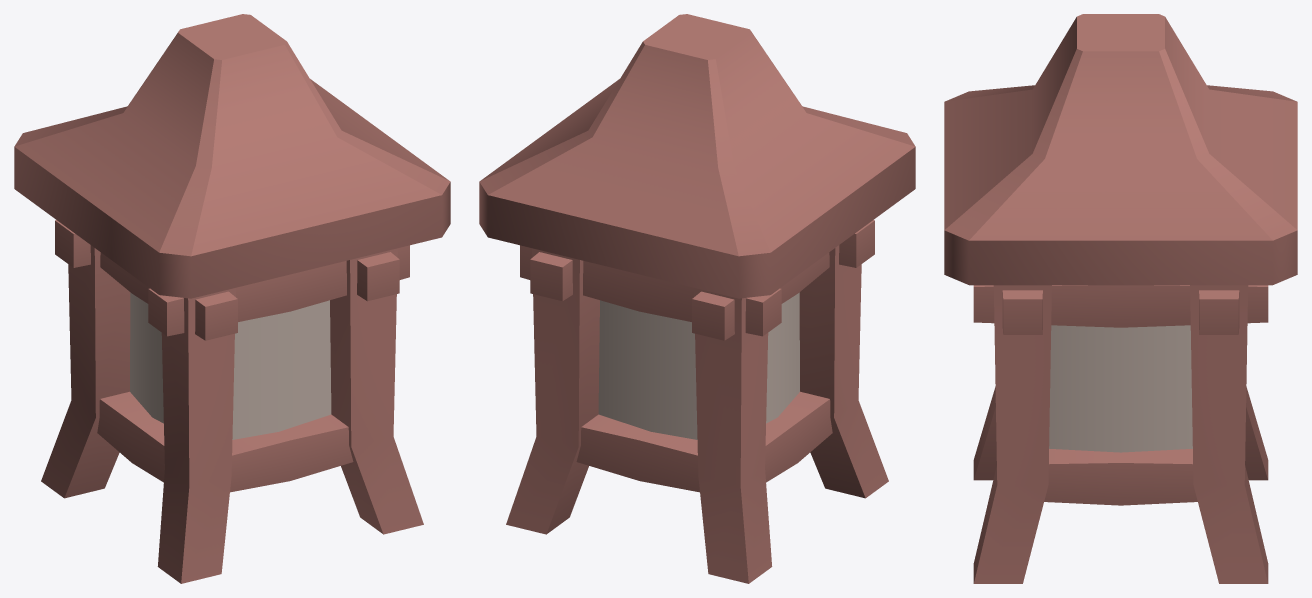
File: lamp-lantern-roof.glb
3 views of the same model, side by side, from view 1: azimuth 30°, elevation 25°; view 2: azimuth 150°, elevation 25°; view 3: azimuth 270°, elevation 25° (orthographic). The views are drawn at different scales.
Visible parts, largest first — view 1: lamp-lantern-roof; view 2: lamp-lantern-roof; view 3: lamp-lantern-roof.
Boxes of the visible parts, x1,y1,x2,y2 form: lamp-lantern-roof: (14,14,450,583); lamp-lantern-roof: (479,14,915,583); lamp-lantern-roof: (944,14,1297,583).
Size of the model in its own units: 0.36 by 0.55 by 0.36.
